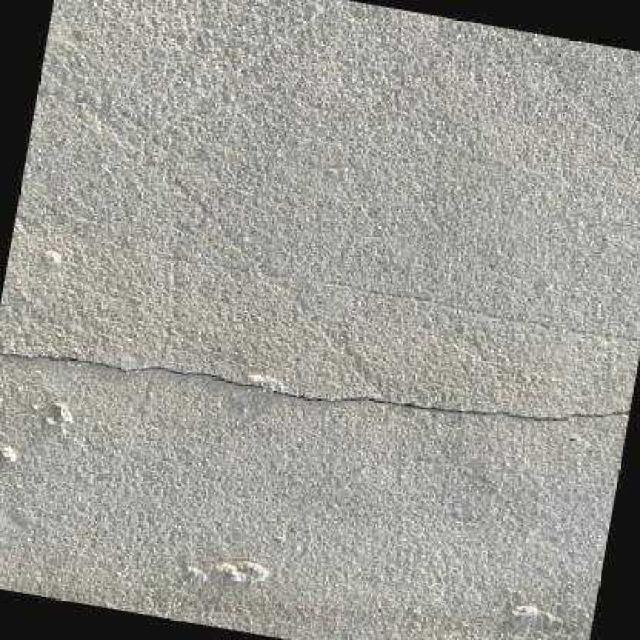D00: (0, 352, 629, 420)
